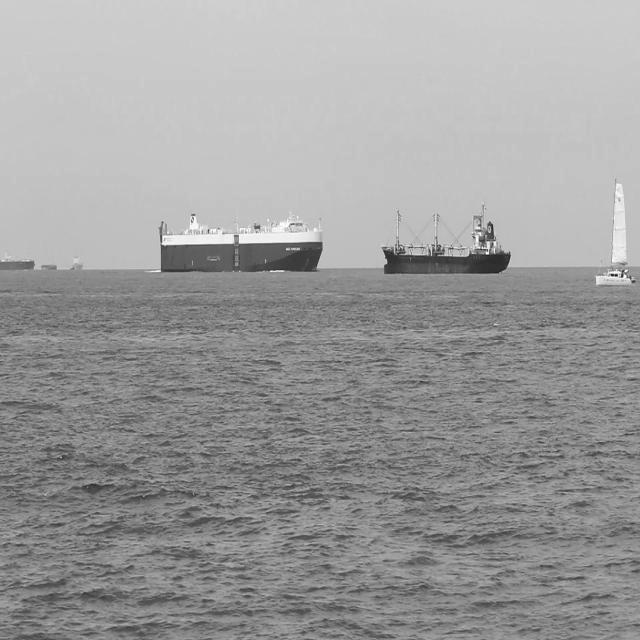ship: (156, 204, 326, 276), (378, 196, 514, 279), (592, 171, 638, 290), (0, 247, 38, 274), (68, 250, 84, 274)
